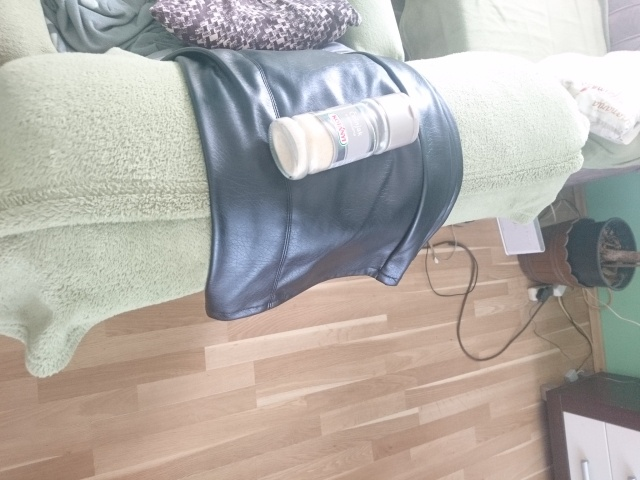Kotanyi Garlic Granules 70g: (265, 90, 422, 183)
